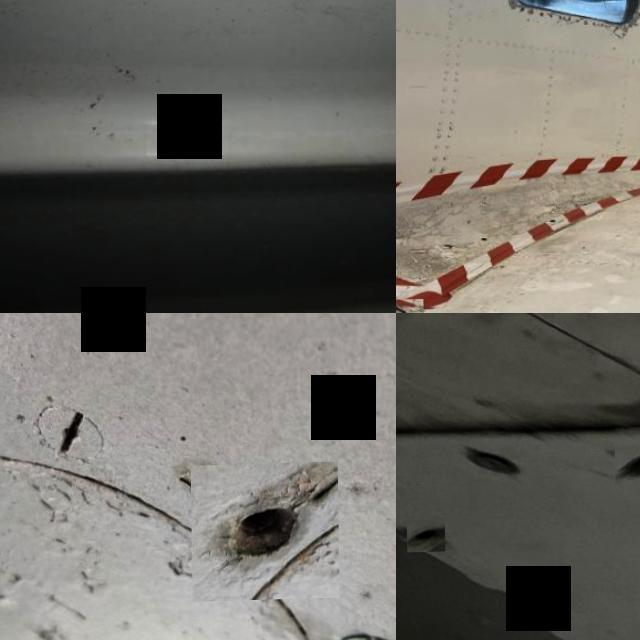Crack: (396, 300, 421, 313)
Missing_Fastener: (189, 465, 338, 604), (509, 592, 561, 628), (613, 446, 640, 490), (406, 522, 444, 553)
